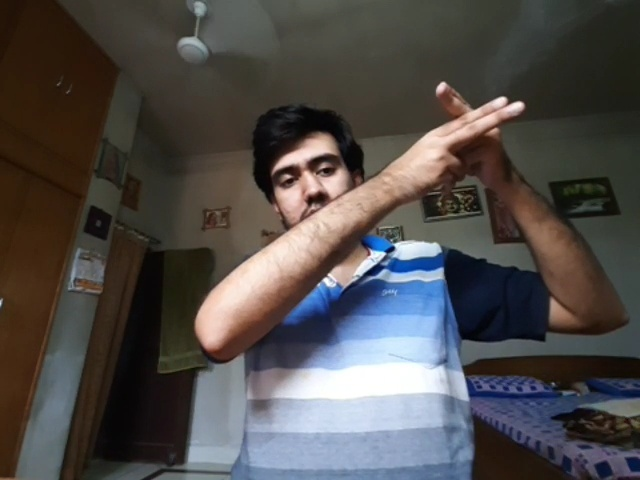Name: (408, 80, 526, 193)
